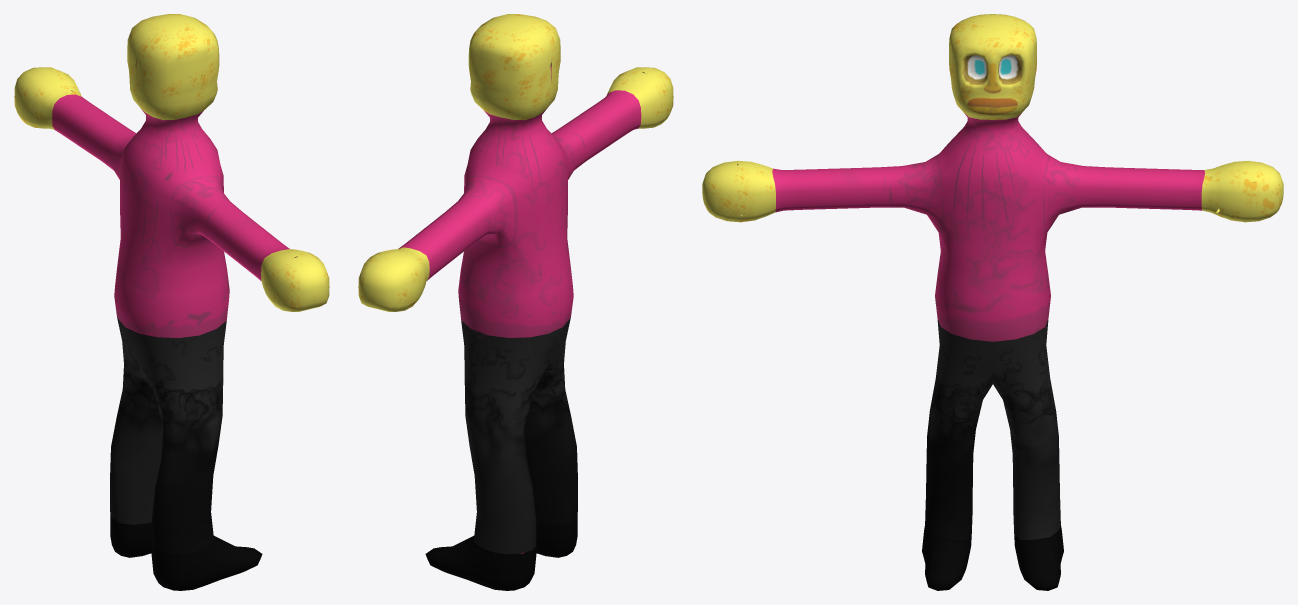
The model's file is human.fbx.
The picture shows the model from 3 angles, left to right: view 1: azimuth 30°, elevation 25°; view 2: azimuth 150°, elevation 25°; view 3: azimuth 270°, elevation 25°; orthographic projection.
Parts seen in each view (by area): view 1: Cube; view 2: Cube; view 3: Cube.
Part boxes in pixels (x1,y1,x2,y2): Cube: (14, 14, 329, 590); Cube: (358, 14, 673, 590); Cube: (702, 14, 1283, 590).
Size of the model in its own units: 160 by 733 by 701.
